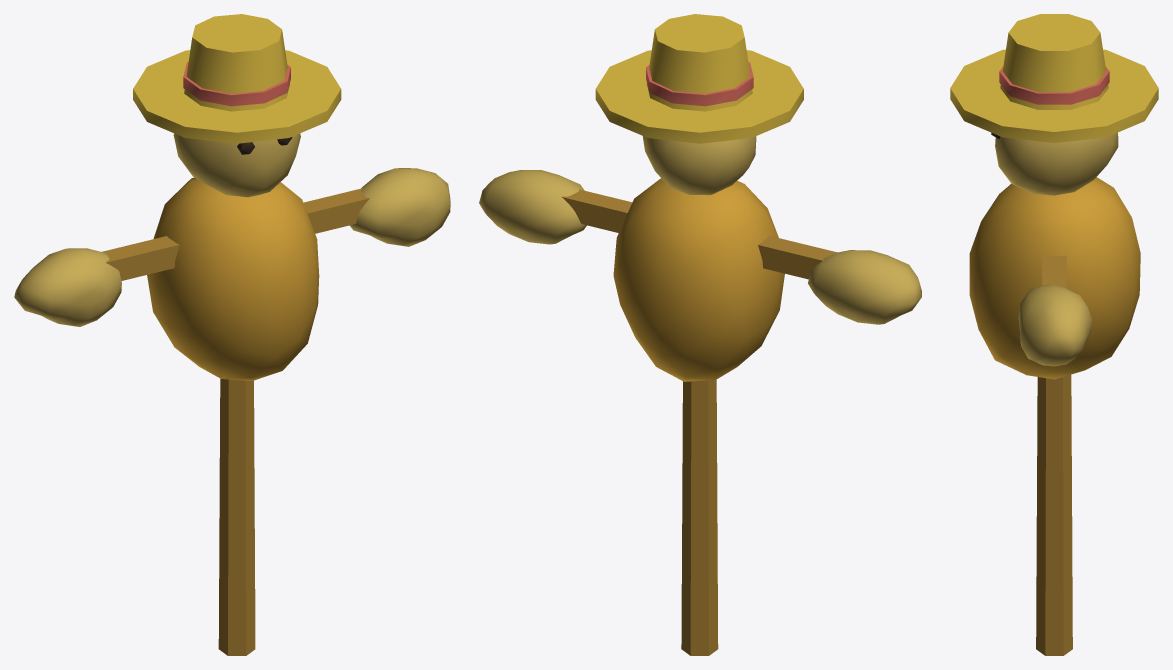
File: golden_scarecrow.glb
3 renders of one model, left to right at view 1: azimuth 30°, elevation 25°; view 2: azimuth 150°, elevation 25°; view 3: azimuth 270°, elevation 25°, orthographic.
Parts seen in each view (by area): view 1: decor-golden_scarecrow; view 2: decor-golden_scarecrow; view 3: decor-golden_scarecrow.
Part boxes in pixels (x1=…): decor-golden_scarecrow: x1=14, y1=14, x2=450, y2=655; decor-golden_scarecrow: x1=479, y1=14, x2=921, y2=655; decor-golden_scarecrow: x1=950, y1=14, x2=1158, y2=655.
Bounding box in the file's own units: 1.62 × 2.22 × 0.68.
